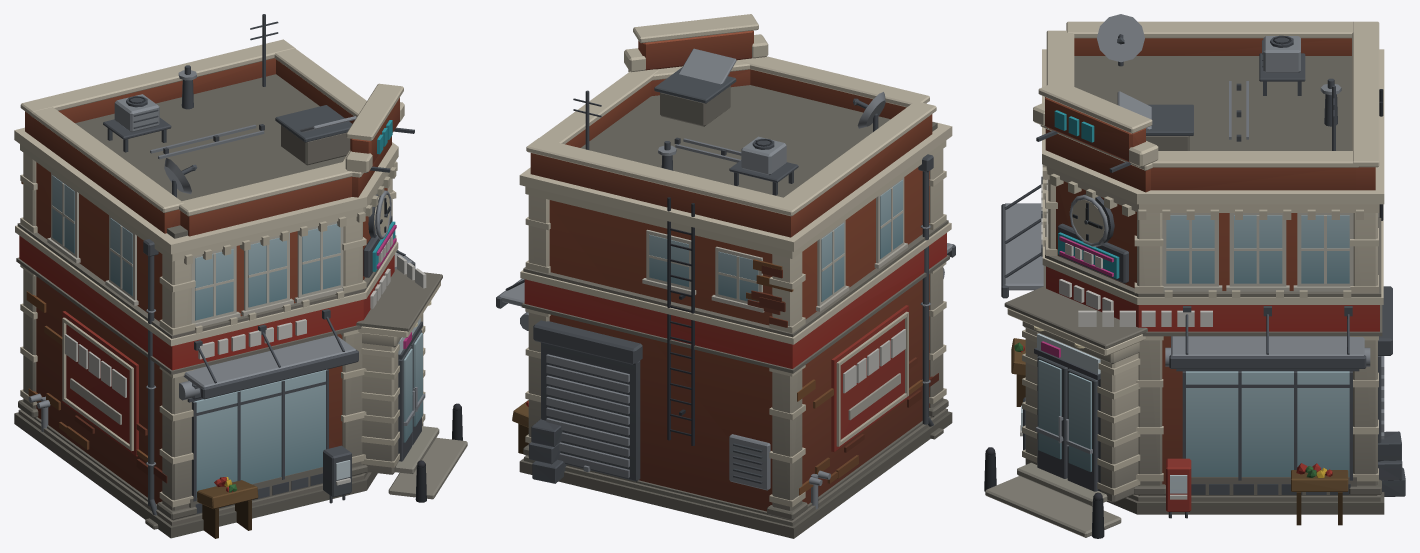
The model's file is corner-store-01.glb.
The picture shows the model from 3 angles, left to right: view 1: azimuth 30°, elevation 25°; view 2: azimuth 150°, elevation 25°; view 3: azimuth 270°, elevation 25°; orthographic projection. The views are drawn at different scales.
Parts seen in each view (by area): view 1: corner_store_01; view 2: corner_store_01; view 3: corner_store_01.
Part boxes in pixels (x1,y1,x2,y2): corner_store_01: [14, 14, 467, 538]; corner_store_01: [496, 14, 955, 538]; corner_store_01: [984, 14, 1405, 538].
Size of the model in its own units: 7.06 by 7.75 by 7.32.
